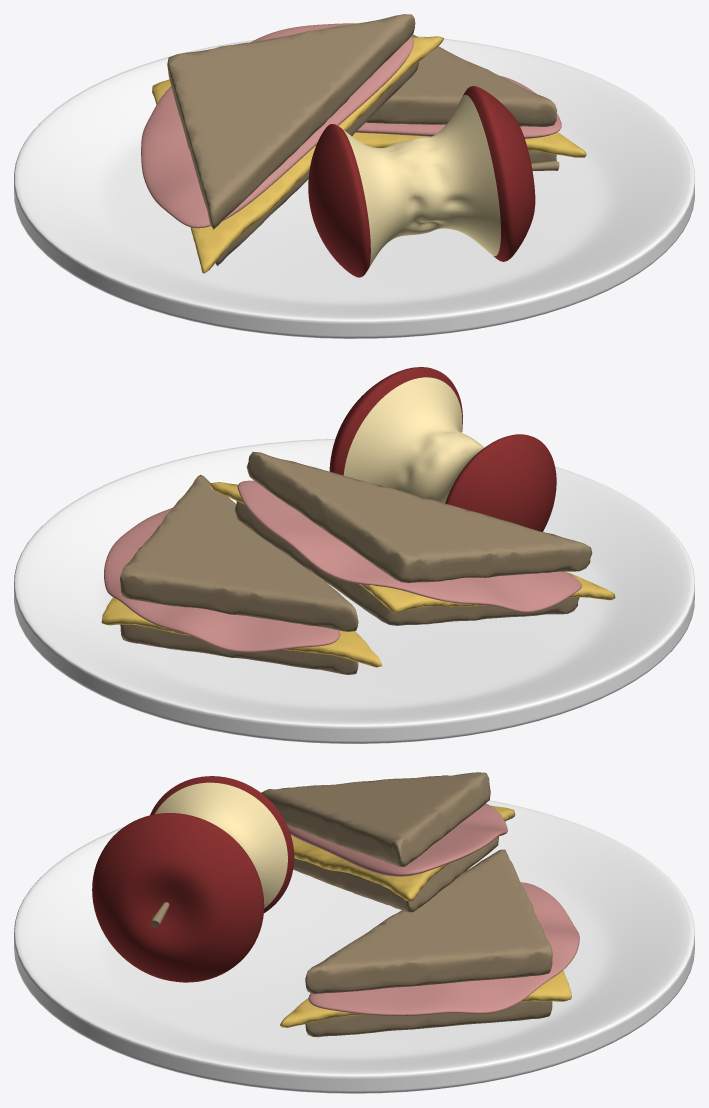
The model's file is Food.fbx.
3 renders of one model, top to bottom at view 1: azimuth 30°, elevation 25°; view 2: azimuth 150°, elevation 25°; view 3: azimuth 270°, elevation 25°, orthographic.
Visible parts, largest first — view 1: Plate, Bread (×2), pSphere1, Ham (×2), Cheese (×2), Bread1; view 2: Plate, Bread (×2), pSphere1, Ham (×2), Bread1 (×2), Cheese (×2); view 3: Plate, Bread (×2), pSphere1, Ham (×2), Bread1 (×2), Cheese (×2).
Part boxes in pixels (x1,y1,x2,y2): Plate: [14, 36, 694, 338]; Bread (×2): [167, 14, 557, 229]; pSphere1: [308, 86, 535, 277]; Ham (×2): [141, 23, 561, 228]; Cheese (×2): [152, 36, 586, 273]; Bread1: [215, 62, 418, 265]; Plate: [14, 439, 694, 743]; Bread (×2): [120, 451, 592, 631]; pSphere1: [329, 367, 556, 531]; Ham (×2): [104, 480, 581, 652]; Bread1 (×2): [120, 501, 579, 674]; Cheese (×2): [101, 482, 615, 667]; Plate: [14, 800, 694, 1093]; Bread (×2): [261, 772, 552, 993]; pSphere1: [92, 776, 294, 982]; Ham (×2): [287, 803, 579, 1015]; Bread1 (×2): [293, 836, 552, 1037]; Cheese (×2): [280, 805, 571, 1027].
Bounding box in the file's own units: 37.35 × 11.54 × 37.35.
